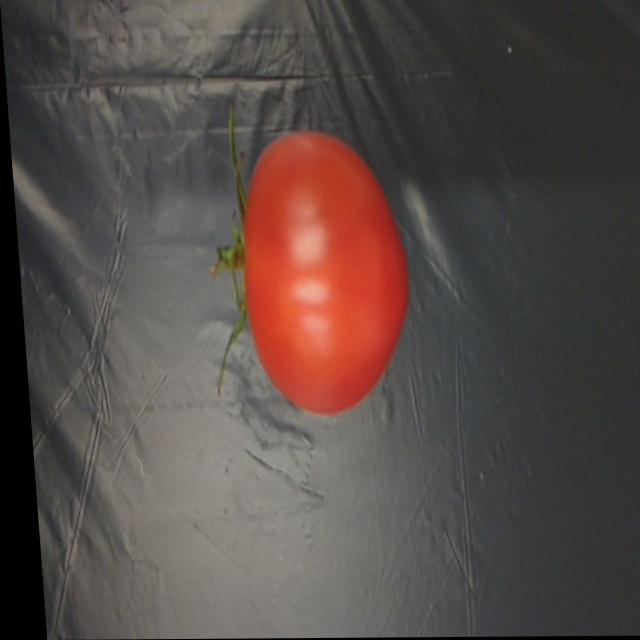kirmizi: (212, 112, 432, 418)
